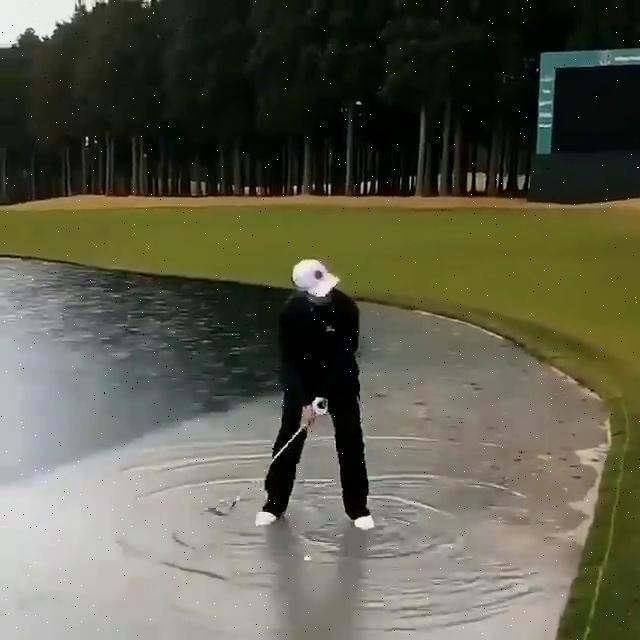golf ball: (303, 552, 313, 565)
golf club-handle: (206, 398, 327, 521)
golf club-head: (210, 504, 231, 521)
